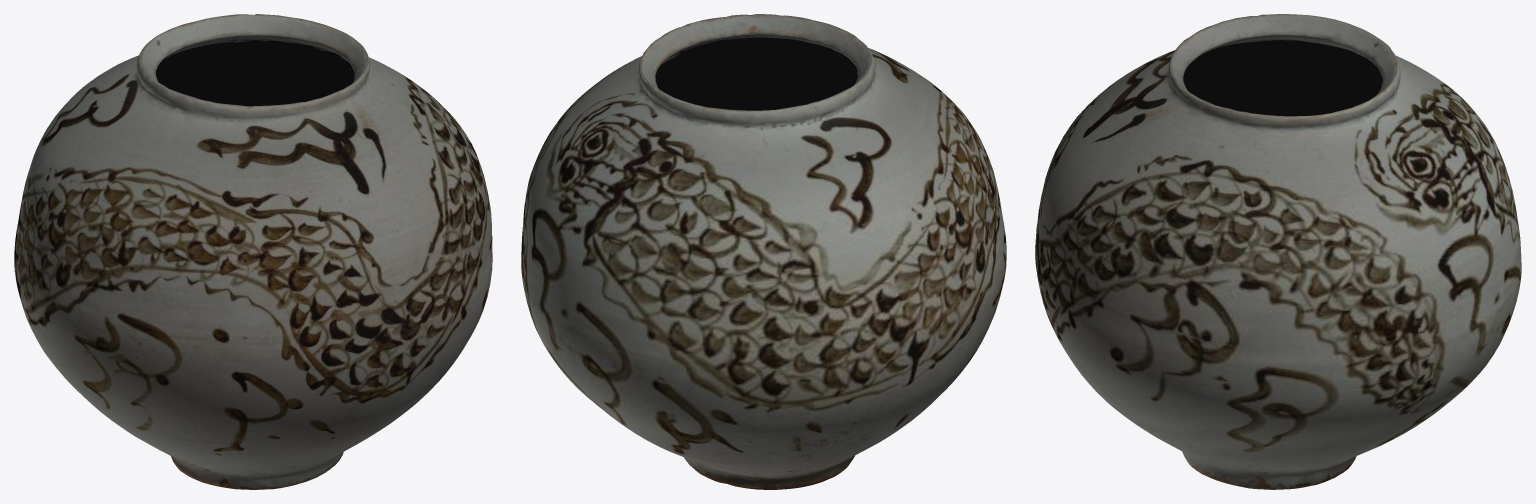
Rendered from cloudjar.glb.
3 views of the same model, side by side, from view 1: azimuth 30°, elevation 25°; view 2: azimuth 150°, elevation 25°; view 3: azimuth 270°, elevation 25° (orthographic).
Visible parts, largest first — view 1: Object_2; view 2: Object_2; view 3: Object_2.
Boxes of the visible parts, x1,y1,x2,y2 form: Object_2: [14, 14, 492, 489]; Object_2: [521, 14, 1006, 489]; Object_2: [1035, 14, 1521, 489].
Bounding box in the file's own units: 0.3889 × 0.3532 × 0.3906.
Materials: 1 (1 with a texture image).
